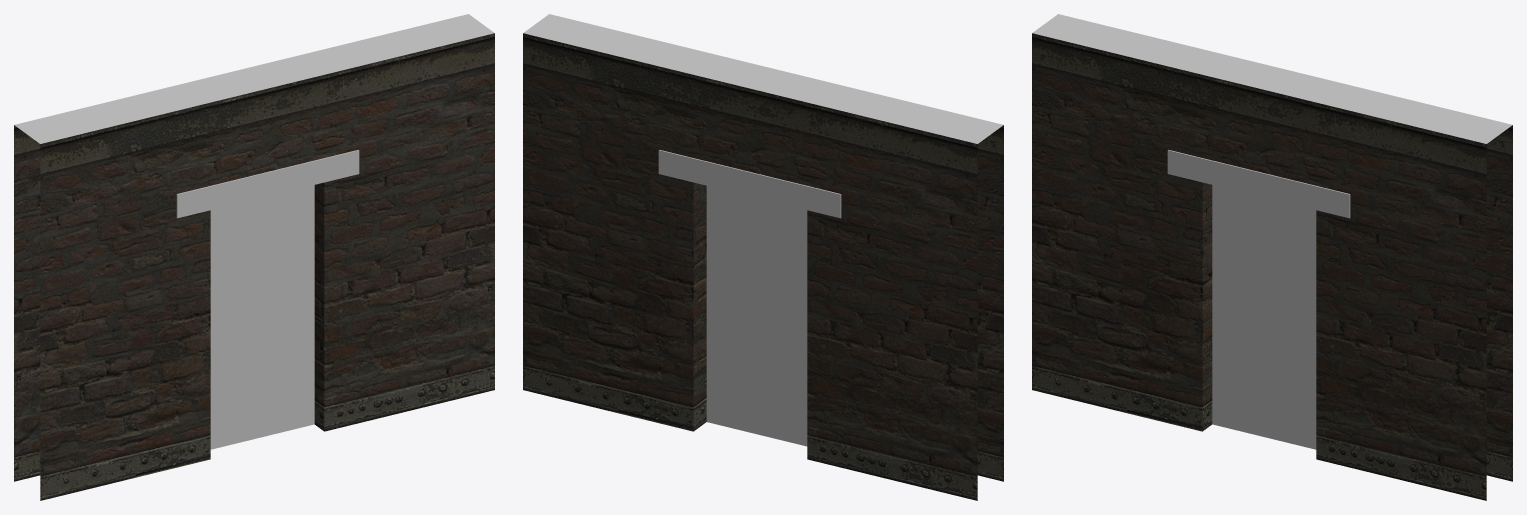
Rendered from doorway_hr_1.fbx.
3 views of the same model, side by side, from view 1: azimuth 30°, elevation 25°; view 2: azimuth 150°, elevation 25°; view 3: azimuth 330°, elevation 25° (orthographic).
Parts seen in each view (by area): view 1: doorway_hr_1, metal_door_1; view 2: doorway_hr_1, metal_door_1; view 3: doorway_hr_1, metal_door_1.
Part boxes in pixels (x1,y1,x2,y2): doorway_hr_1: [14, 14, 494, 500]; metal_door_1: [210, 185, 314, 449]; doorway_hr_1: [523, 14, 1003, 500]; metal_door_1: [706, 186, 807, 446]; doorway_hr_1: [1032, 14, 1512, 500]; metal_door_1: [1212, 185, 1316, 449].
Bounding box in the file's own units: 4 × 0.42 × 3.
